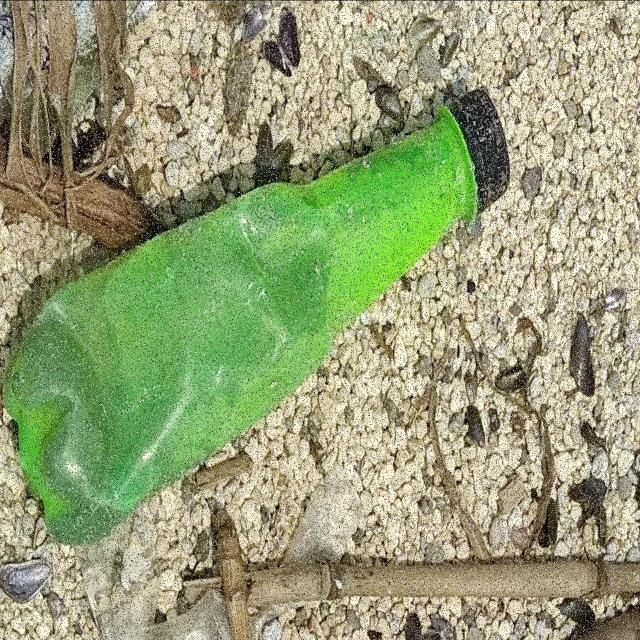plastic_waste: (4, 85, 512, 549)
